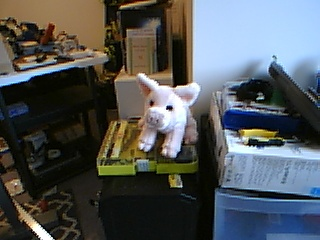piggy: (132, 71, 203, 160)
